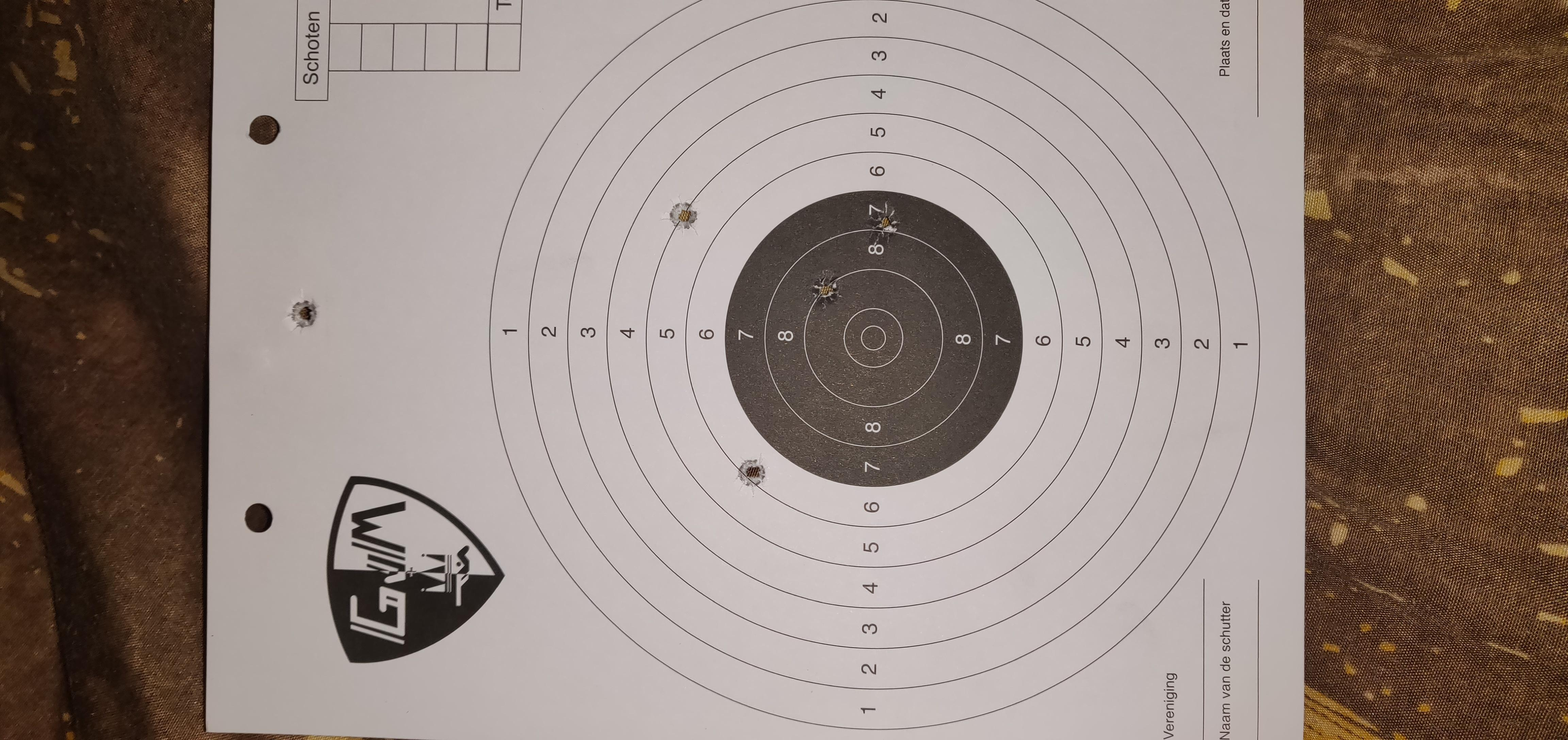hole: (1075, 314, 1158, 332), (1058, 410, 1131, 427), (866, 137, 939, 151), (925, 382, 989, 397), (535, 348, 594, 360)
